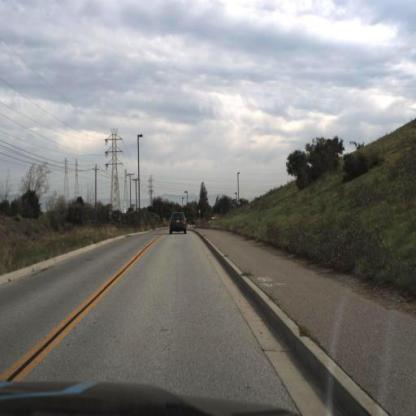car: (168, 209, 189, 240)
